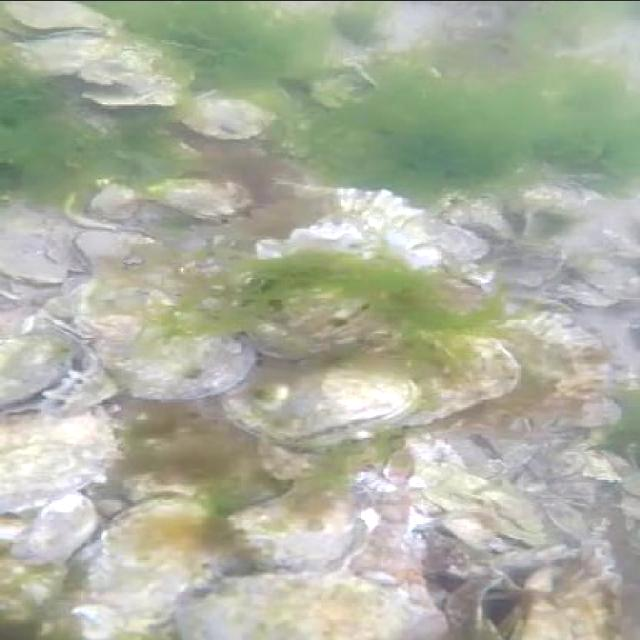Oyster-Closed: (188, 564, 442, 640), (68, 494, 215, 606), (115, 301, 255, 403), (246, 251, 378, 357), (0, 388, 122, 490), (374, 334, 522, 418), (234, 492, 368, 568), (10, 491, 104, 559), (0, 327, 70, 408), (180, 86, 278, 142), (154, 174, 256, 224), (0, 558, 72, 626), (472, 487, 546, 545), (552, 447, 640, 495), (370, 442, 468, 482), (429, 509, 493, 566), (540, 394, 630, 430), (440, 192, 514, 234), (523, 182, 609, 218), (83, 181, 153, 225), (432, 470, 498, 514), (126, 466, 202, 504)
Oyster-Open: (223, 358, 417, 448), (26, 34, 160, 104), (2, 0, 122, 46), (69, 229, 165, 279)
